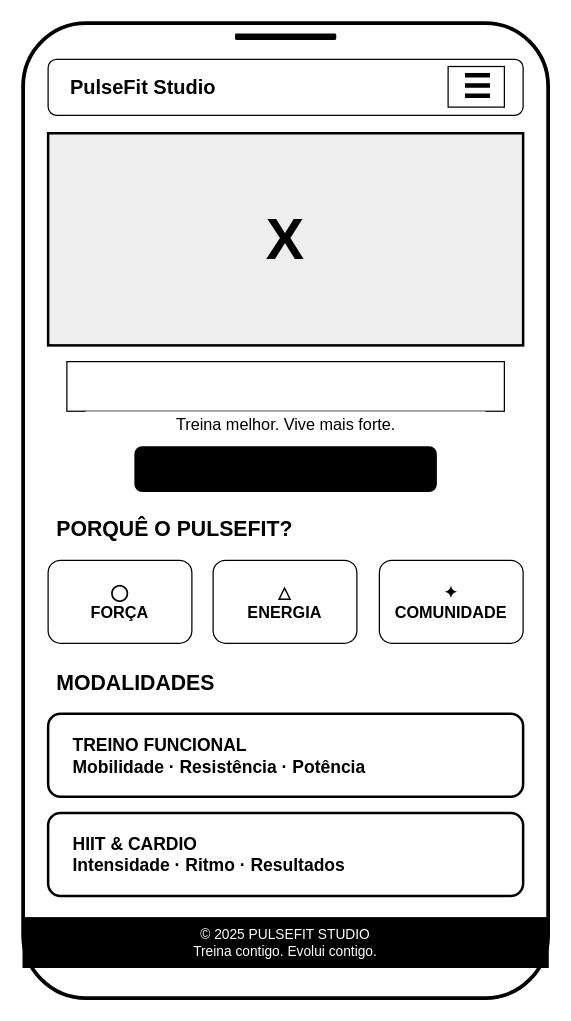
The diagram is 571 pixels wide and 1021 high, and some of its shapes have lost their labels. Here are the shapes that lost their labels. From the top down, the centre of each, then its label:
At (285,385): "TRANSFORMA O TEU CORPO".
At (285,468): "[ EXPERIMENTA GRÁTIS ]".
